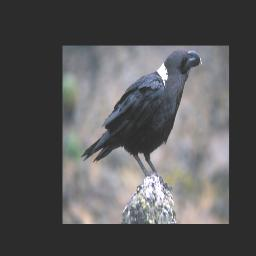Crow: (80, 49, 203, 194)
